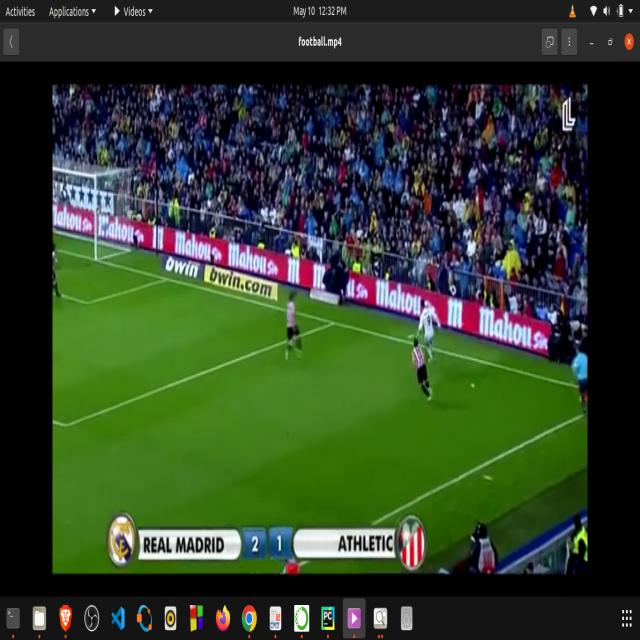Refree: (570, 338, 588, 416)
football-players: (280, 284, 311, 373), (407, 332, 436, 414), (413, 294, 442, 364), (52, 238, 69, 300)
